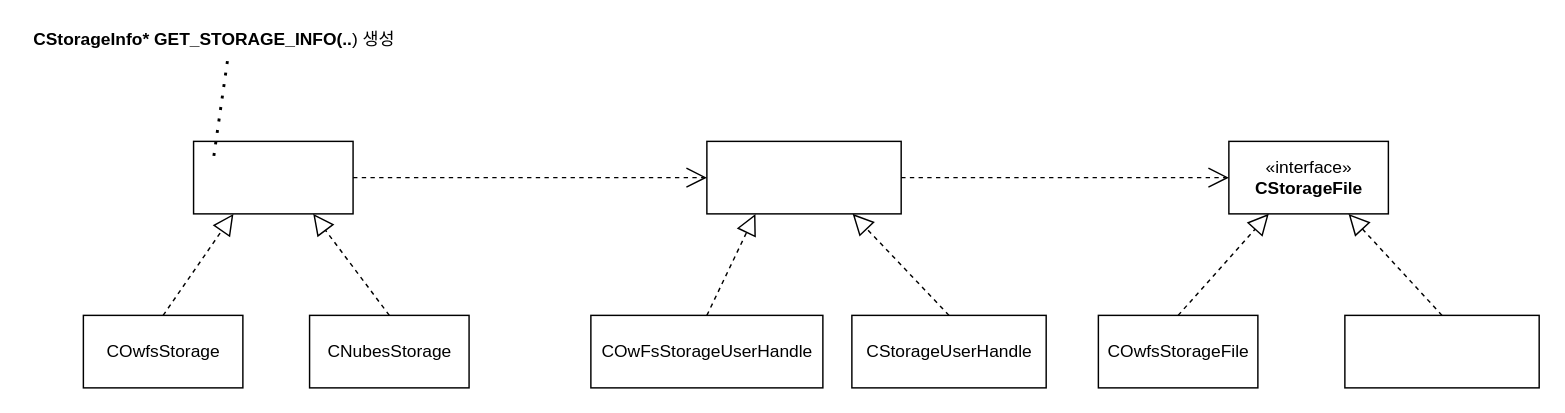
The diagram is 1565 pixels wide and 413 high, and some of its shapes have lost their labels. Here are the shapes that lost their labels. From the top down, the box of each, then its label:
(192, 140, 353, 214): «interface» CDriveStorage
(705, 140, 901, 214): «interface» CStorageUserHandle
(1343, 314, 1539, 388): CNubesStorageFile
